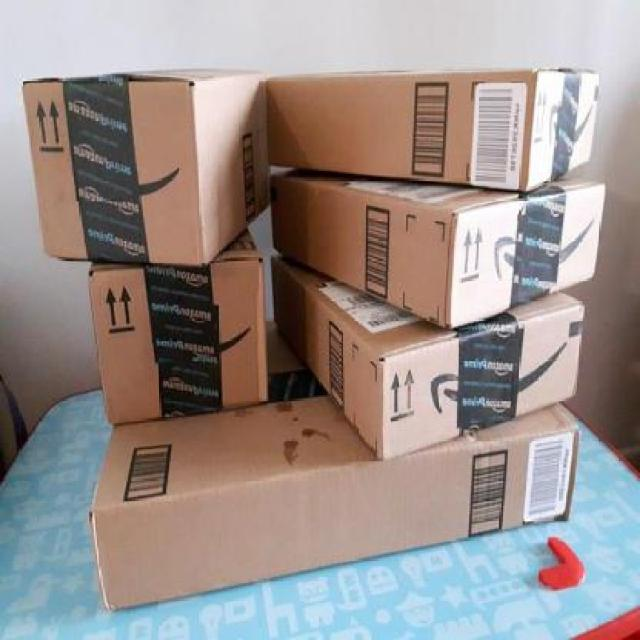cardboxes: (86, 412, 582, 616), (271, 251, 587, 466), (256, 178, 610, 324), (19, 65, 278, 263), (260, 62, 602, 192), (85, 262, 278, 426)
